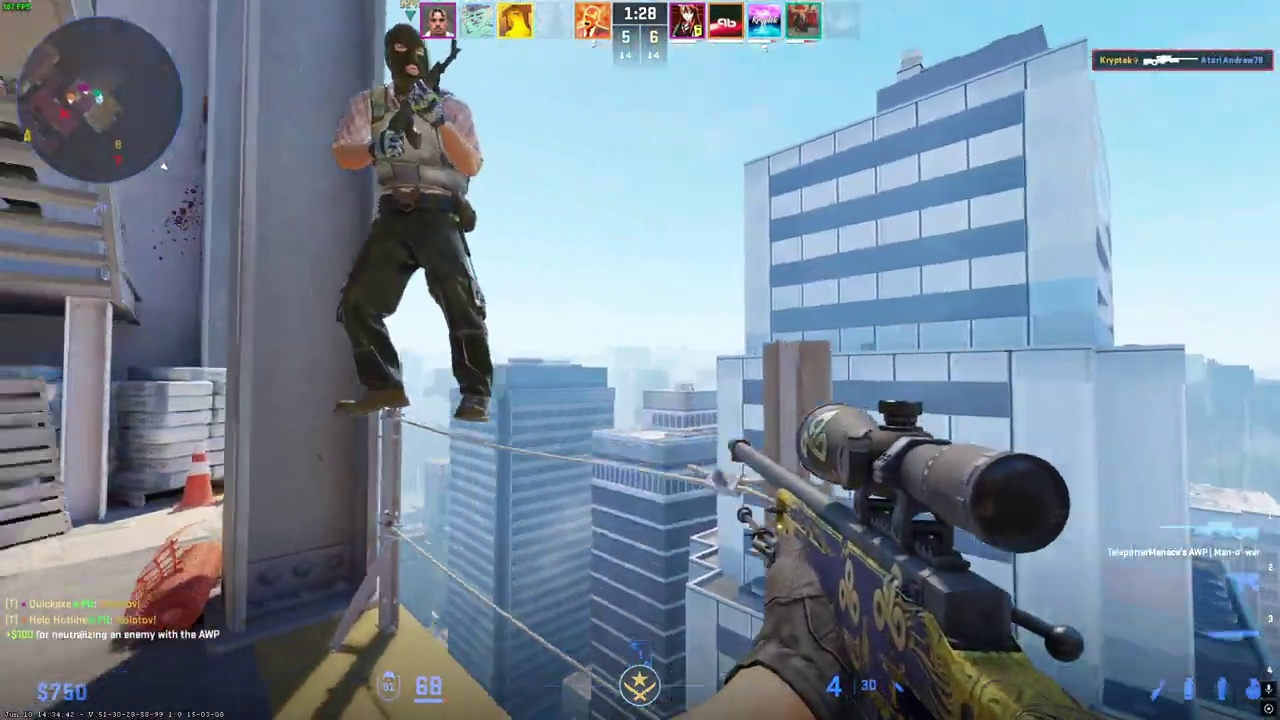Terrorist: (334, 22, 495, 427)
